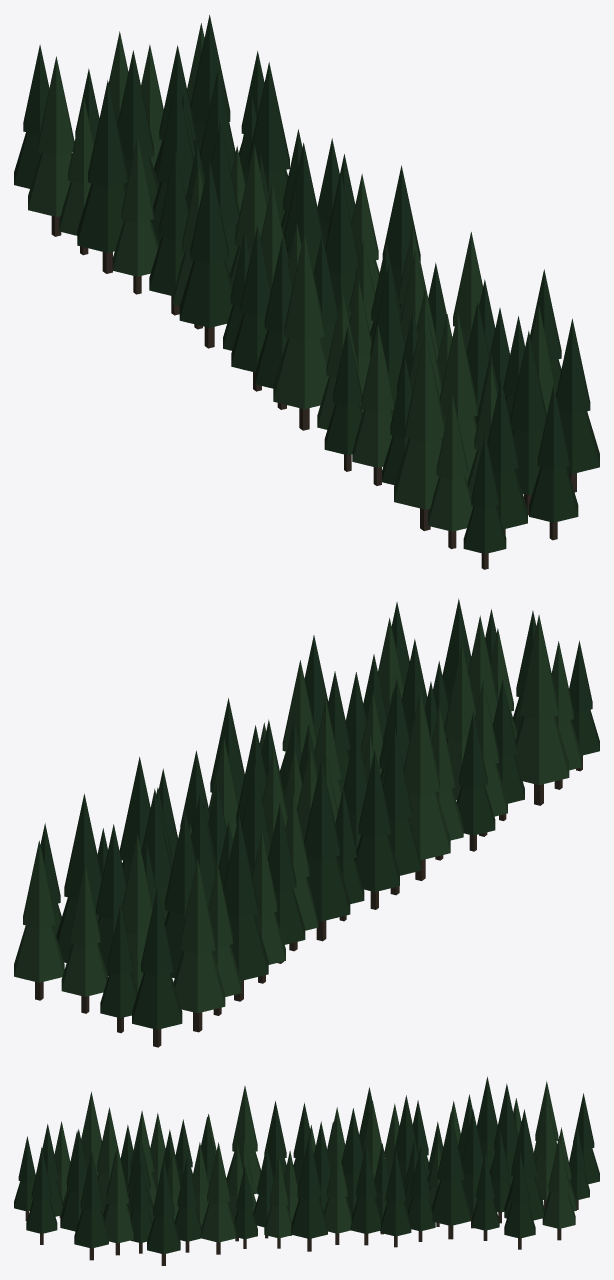
The model's file is forest_edge_01.glb.
3 views of the same model, one above another, from view 1: azimuth 30°, elevation 25°; view 2: azimuth 150°, elevation 25°; view 3: azimuth 270°, elevation 25° (orthographic). The views are drawn at different scales.
Visible parts, largest first — view 1: chunk_0_0; view 2: chunk_0_0; view 3: chunk_0_0.
Boxes of the visible parts, box(x1,y1,x2,y2) form: chunk_0_0: box(14, 15, 599, 569); chunk_0_0: box(14, 598, 599, 1047); chunk_0_0: box(14, 1076, 599, 1265).
Bounding box in the file's own units: 34.14 × 32.24 × 115.
